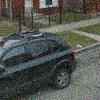cars: (0, 34, 75, 94)
